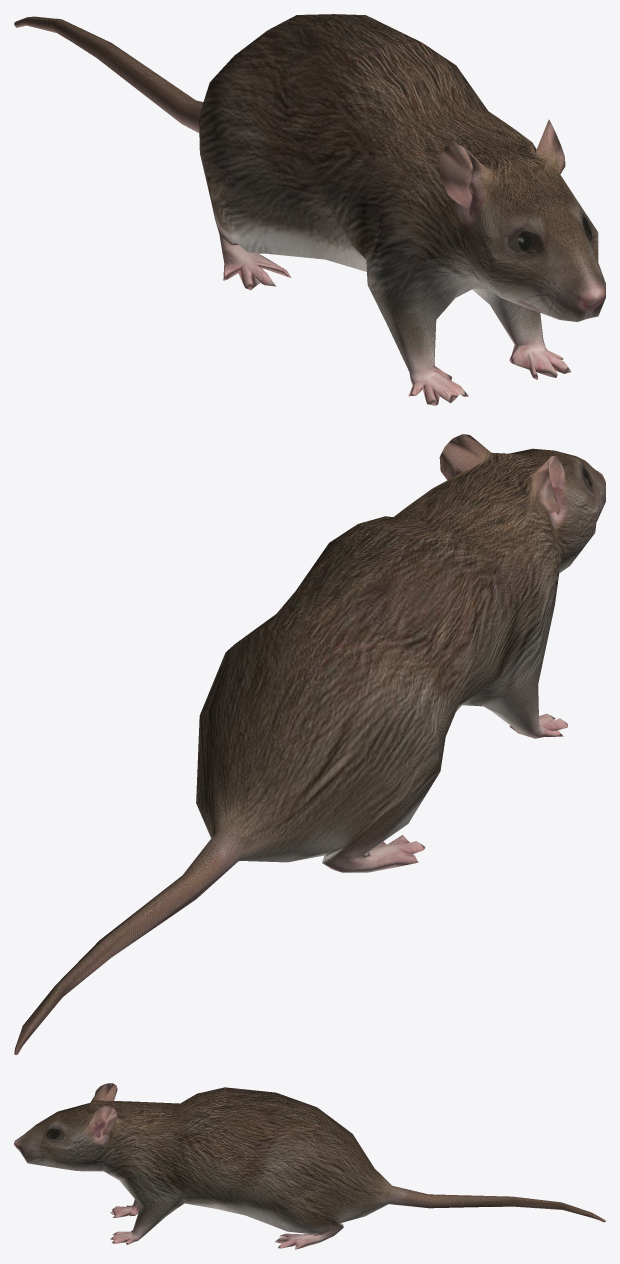
File: story_rat.glb
3 renders of one model, top to bottom at view 1: azimuth 30°, elevation 25°; view 2: azimuth 150°, elevation 25°; view 3: azimuth 270°, elevation 25°, orthographic. The views are drawn at different scales.
Parts seen in each view (by area): view 1: Mesh_0; view 2: Mesh_0; view 3: Mesh_0.
Boxes of the visible parts, x1=… form: Mesh_0: x1=14, y1=14, x2=605, y2=405; Mesh_0: x1=14, y1=434, x2=605, y2=1054; Mesh_0: x1=14, y1=1083, x2=605, y2=1249.
Bounding box in the file's own units: 0.0788 × 0.0943 × 0.38.
1 material, 1 textured.
